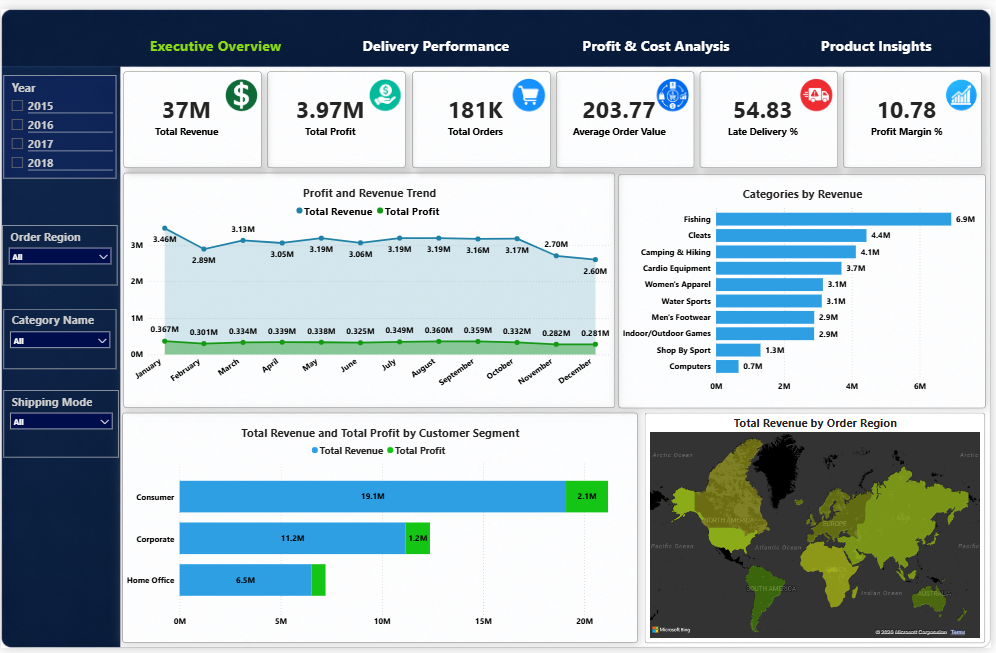

The dashboard page shown, as its layout file describes it:
{"tool":"powerbi","page":{"name":"Executive Overview","canvas":[1650,1065],"ordinal":0},"visuals":[{"type":"group","id":"g1","title":"Group 1","box":[204,105,1431,161],"z":0},{"type":"card","title":"Total Revenue","fields":{"Values":["Measure.Total Revenue"]},"box":[204,105,230.5,161],"z":0,"group":"g1"},{"type":"card","title":"Avg Delay","fields":{"Values":["Measure.Average Order Value"]},"box":[924.3,105,230.5,161],"z":1000,"group":"g1"},{"type":"group","id":"g2","title":"Group 2","box":[204,273,1436,392],"z":1000},{"type":"lineChart","title":"Profit and Revenue Trend","fields":{"Y":["Measure.Total Revenue","Measure.Total Profit"],"Category":["final_supply_chain_analytics.order date (DateOrders).Variation.Date Hierarchy.Month"]},"box":[204,273,819,392],"z":1000,"group":"g2"},{"type":"card","title":"Total Order","fields":{"Values":["Measure.Total Orders"]},"box":[684.2,105,230.5,161],"z":2000,"group":"g1"},{"type":"clusteredBarChart","title":"Categories by Revenue","fields":{"Y":["Measure.Total Revenue"],"Category":["final_supply_chain_analytics.Category Name"]},"box":[1028,275,612,390],"z":2000,"group":"g2"},{"type":"group","id":"g3","title":"Group 3","box":[202,673,859,383],"z":2000},{"type":"image","box":[368,96,64,96],"z":3000},{"type":"card","title":"Total Profit","fields":{"Values":["Measure.Total Profit"]},"box":[444.1,105,230.5,161],"z":3000,"group":"g1"},{"type":"barChart","fields":{"Y":["Measure.Total Revenue","Measure.Total Profit"],"Category":["final_supply_chain_analytics.Customer Segment"]},"box":[202,673,859,383],"z":3000,"group":"g3"},{"type":"image","box":[1568,96,64,96],"z":4000},{"type":"card","title":"Late Delivery %","fields":{"Values":["Measure.Late Delivery %"]},"box":[1164.4,105,230.5,161],"z":4000,"group":"g1"},{"type":"image","box":[1328,96,64,96],"z":5000},{"type":"card","title":"Profit Margin %","fields":{"Values":["Measure.Profit Margin %"]},"box":[1404.5,105,230.5,161],"z":5000,"group":"g1"},{"type":"image","box":[1088,96,64,96],"z":6000},{"type":"image","box":[848,96,64,96],"z":7000},{"type":"image","box":[608,96,64,96],"z":8000},{"type":"slicer","fields":{"Values":["final_supply_chain_analytics.Year"]},"box":[4,110,188,172],"z":9000},{"type":"slicer","fields":{"Values":["final_supply_chain_analytics.Order Region"]},"box":[3,360,192,100],"z":10000},{"type":"slicer","fields":{"Values":["final_supply_chain_analytics.Category Name"]},"box":[4,501,188,100],"z":11000},{"type":"filledMap","fields":{"Category":["final_supply_chain_analytics.Order Region"]},"box":[1072,672,567,384],"z":12000},{"type":"slicer","fields":{"Values":["final_supply_chain_analytics.Shipping Mode"]},"box":[4,635,192,112],"z":13000},{"type":"pageNavigator","box":[180,11,1458,86],"z":14000}]}

Visuals, with their boxes in screenshot pixels (x1, y1, x2, y2), scaled from the page's 1650x1065 canvas onto the 996x653 screenshot:
"Group 1" group: pyautogui.locateOnScreen(123, 64, 987, 163)
"Total Revenue" card: pyautogui.locateOnScreen(123, 64, 262, 163)
"Avg Delay" card: pyautogui.locateOnScreen(558, 64, 697, 163)
"Group 2" group: pyautogui.locateOnScreen(123, 167, 990, 408)
"Profit and Revenue Trend" lineChart: pyautogui.locateOnScreen(123, 167, 618, 408)
"Total Order" card: pyautogui.locateOnScreen(413, 64, 552, 163)
"Categories by Revenue" clusteredBarChart: pyautogui.locateOnScreen(621, 169, 990, 408)
"Group 3" group: pyautogui.locateOnScreen(122, 413, 640, 647)
image: pyautogui.locateOnScreen(222, 59, 261, 118)
"Total Profit" card: pyautogui.locateOnScreen(268, 64, 407, 163)
barChart - Measure.Total Revenue x Measure.Total Profit: pyautogui.locateOnScreen(122, 413, 640, 647)
image: pyautogui.locateOnScreen(947, 59, 985, 118)
"Late Delivery %" card: pyautogui.locateOnScreen(703, 64, 842, 163)
image: pyautogui.locateOnScreen(802, 59, 840, 118)
"Profit Margin %" card: pyautogui.locateOnScreen(848, 64, 987, 163)
image: pyautogui.locateOnScreen(657, 59, 695, 118)
image: pyautogui.locateOnScreen(512, 59, 551, 118)
image: pyautogui.locateOnScreen(367, 59, 406, 118)
slicer - final_supply_chain_analytics.Year: pyautogui.locateOnScreen(2, 67, 116, 173)
slicer - final_supply_chain_analytics.Order Region: pyautogui.locateOnScreen(2, 221, 118, 282)
slicer - final_supply_chain_analytics.Category Name: pyautogui.locateOnScreen(2, 307, 116, 369)
filledMap - final_supply_chain_analytics.Order Region: pyautogui.locateOnScreen(647, 412, 989, 647)
slicer - final_supply_chain_analytics.Shipping Mode: pyautogui.locateOnScreen(2, 389, 118, 458)
pageNavigator: pyautogui.locateOnScreen(109, 7, 989, 59)
